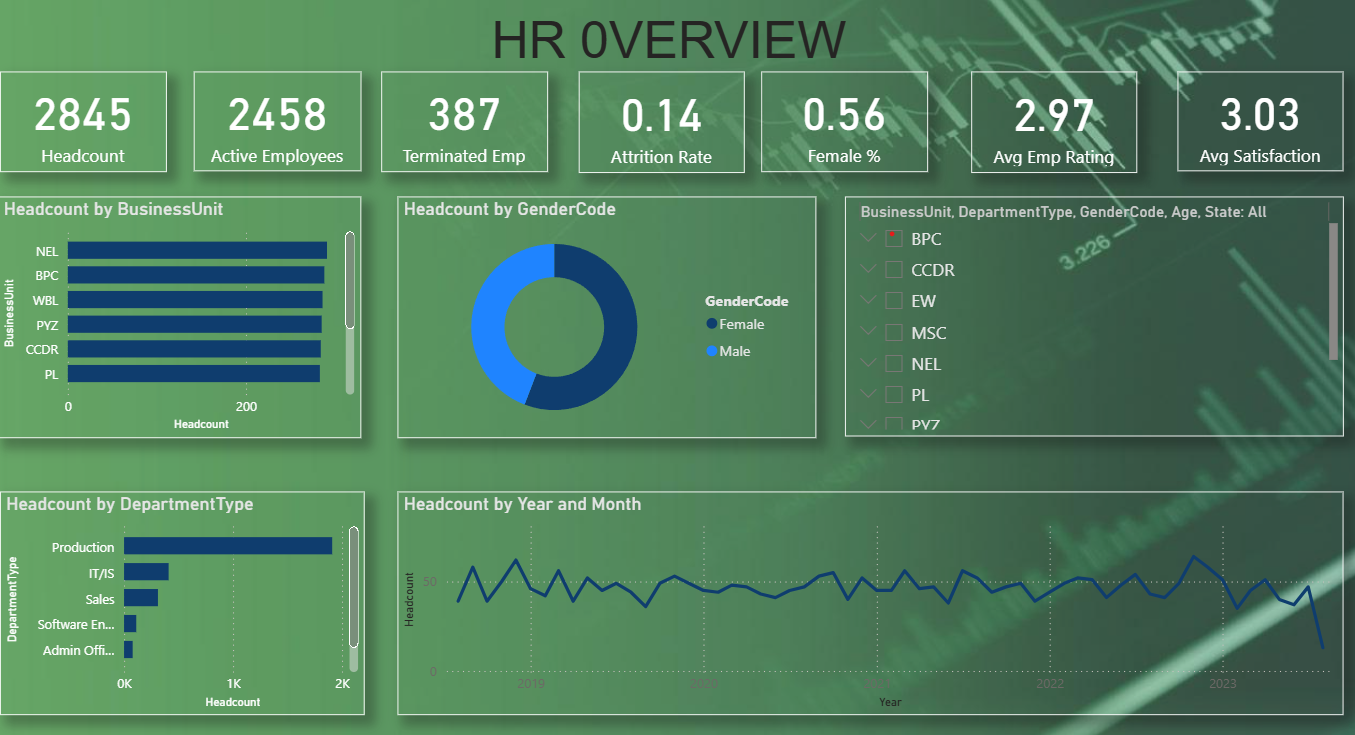

The dashboard page shown, as its layout file describes it:
{"tool":"powerbi","page":{"name":"HR Overview","canvas":[1280,720],"ordinal":0},"visuals":[{"type":"card","fields":{"Values":["HR.Headcount"]},"box":[9.6,76.8,155.1,93.3],"z":0},{"type":"card","fields":{"Values":["HR.Active Employees"]},"box":[189.5,76.7,155.8,93],"z":1000},{"type":"card","fields":{"Values":["HR.Terminated Employees"]},"box":[363.6,76.8,155.1,93.3],"z":2000},{"type":"card","fields":{"Values":["HR.Female %"]},"box":[717.7,76.8,155.1,93.3],"z":3000},{"type":"card","fields":{"Values":["HR.Attrition Rate"]},"box":[547.7,76.7,154.7,94.2],"z":4000},{"type":"card","fields":{"Values":["HR.Avg Employee Rating"]},"box":[912.8,76.7,154.7,94.2],"z":5000},{"type":"clusteredBarChart","fields":{"Category":["HR.BusinessUnit"],"Y":["HR.Headcount"]},"box":[7,193,338.4,224.4],"z":6000},{"type":"clusteredBarChart","fields":{"Y":["HR.Headcount"],"Category":["HR.DepartmentType"]},"box":[9.3,467.4,339.5,208.1],"z":7000},{"type":"donutChart","fields":{"Y":["HR.Headcount"],"Category":["HR.GenderCode"]},"box":[379.1,193,389.5,224.4],"z":8000},{"type":"lineChart","fields":{"Y":["HR.Headcount"],"Category":["HR.StartDate.Variation.Date Hierarchy.Year","HR.StartDate.Variation.Date Hierarchy.Month"]},"box":[379.1,467.4,880.2,208.1],"z":9000},{"type":"slicer","fields":{"Values":["HR.BusinessUnit","HR.DepartmentType","HR.GenderCode","HR.Age","HR.State"]},"box":[795.4,193,464,223.3],"z":10000},{"type":"textbox","box":[220.9,15.1,820.6,81],"z":11000},{"type":"card","fields":{"Values":["HR.Avg Satisfaction"]},"box":[1104.7,76.7,154.7,93],"z":12000}]}

Visuals, with their boxes on the page's 1280x720 design canvas (x1, y1, x2, y2). These are canvas units, not pixel positions in the 1355x735 screenshot, which may show the page scaled, cropped or inside an application window:
card - HR.Headcount: 10, 77, 165, 170
card - HR.Active Employees: 190, 77, 345, 170
card - HR.Terminated Employees: 364, 77, 519, 170
card - HR.Female %: 718, 77, 873, 170
card - HR.Attrition Rate: 548, 77, 702, 171
card - HR.Avg Employee Rating: 913, 77, 1068, 171
clusteredBarChart - HR.BusinessUnit x HR.Headcount: 7, 193, 345, 417
clusteredBarChart - HR.Headcount x HR.DepartmentType: 9, 467, 349, 676
donutChart - HR.Headcount x HR.GenderCode: 379, 193, 769, 417
lineChart - HR.Headcount x HR.StartDate.Variation.Date Hierarchy.Year: 379, 467, 1259, 676
slicer - HR.BusinessUnit x HR.DepartmentType: 795, 193, 1259, 416
textbox: 221, 15, 1042, 96
card - HR.Avg Satisfaction: 1105, 77, 1259, 170
